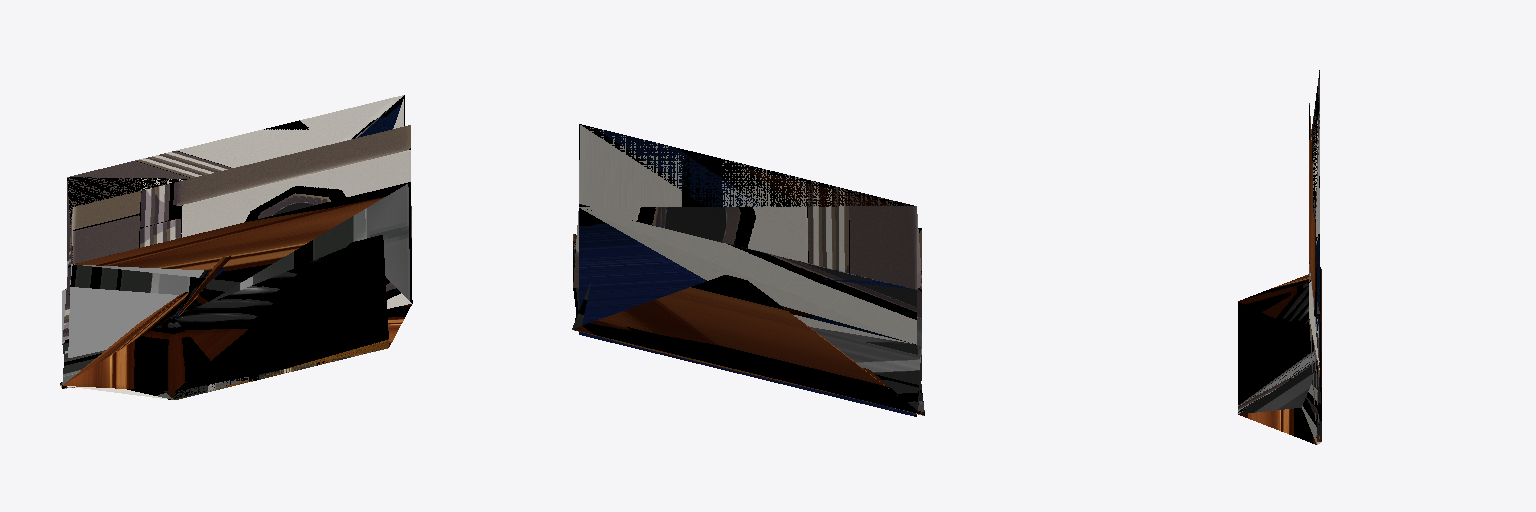
3 renders of one model, left to right at view 1: azimuth 30°, elevation 25°; view 2: azimuth 150°, elevation 25°; view 3: azimuth 270°, elevation 25°, orthographic.
Visible parts, largest first — view 1: BG02_Speaker01, BG02_Item01, BG02_Clock01, BG02_Frame01, BG02_Wood01; view 2: BG02_Speaker01, BG02_Item01, BG02_Frame01; view 3: BG02_Item01, BG02_Clock01, BG02_Speaker01, BG02_Frame01.
Part boxes in pixels (x1,y1,x2,y2): BG02_Speaker01: (63, 95, 411, 399); BG02_Item01: (60, 95, 411, 390); BG02_Clock01: (62, 100, 398, 390); BG02_Frame01: (62, 101, 412, 399); BG02_Wood01: (60, 339, 388, 399); BG02_Speaker01: (573, 124, 921, 344); BG02_Item01: (573, 124, 921, 416); BG02_Frame01: (572, 234, 924, 416); BG02_Item01: (1238, 70, 1321, 444); BG02_Clock01: (1238, 236, 1318, 404); BG02_Speaker01: (1238, 71, 1320, 444); BG02_Frame01: (1238, 237, 1321, 440).
Size of the model in its own units: 1313 by 755 by 274.
8 materials, 8 textured.